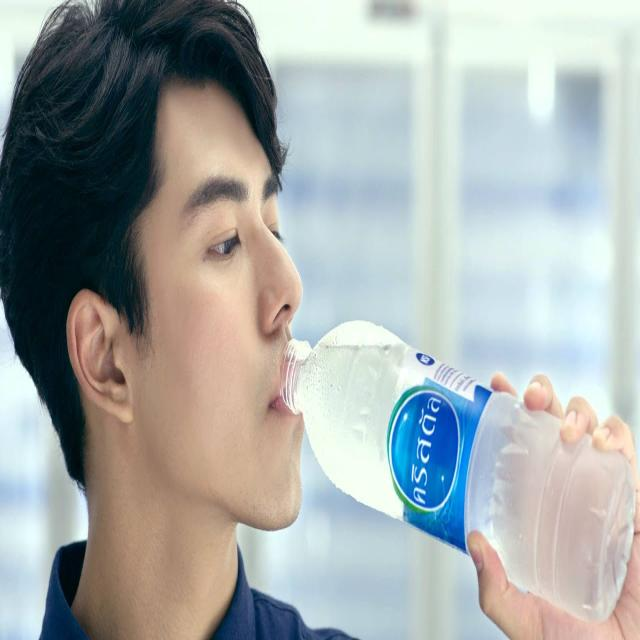bottle: (280, 319, 636, 623)
